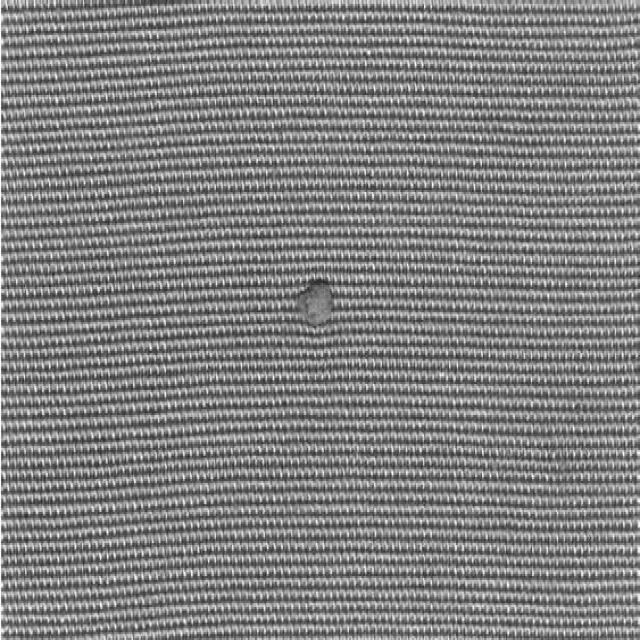seam: (241, 242, 376, 382)
